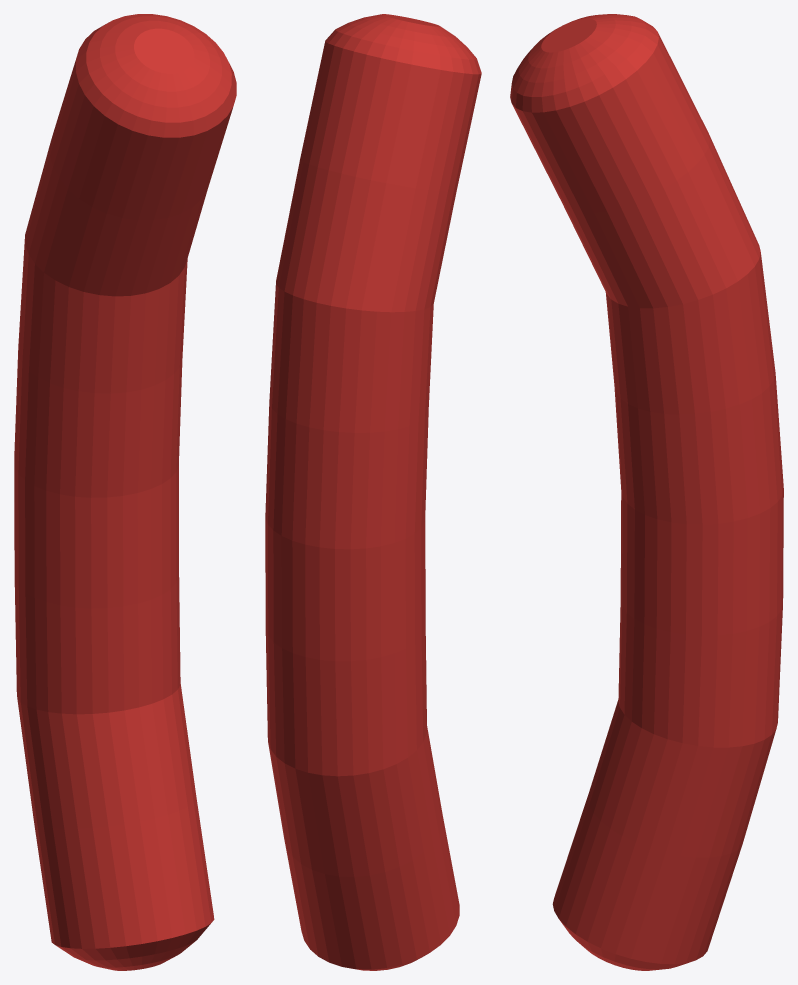
The model's file is hotdog02.fbx.
The picture shows the model from 3 angles, left to right: view 1: azimuth 30°, elevation 25°; view 2: azimuth 150°, elevation 25°; view 3: azimuth 270°, elevation 25°; orthographic projection. The views are drawn at different scales.
Visible parts, largest first — view 1: hotdog.002; view 2: hotdog.002; view 3: hotdog.002.
Part boxes in pixels (left/top/right/bottom): hotdog.002: left=14, top=14, right=236, bottom=970; hotdog.002: left=265, top=14, right=481, bottom=970; hotdog.002: left=510, top=14, right=783, bottom=970.
Bounding box in the file's own units: 200 × 1272 × 336.
